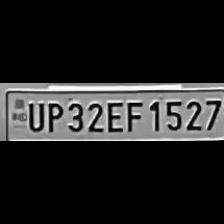1: (144, 98, 162, 132)
2: (84, 98, 104, 132), (184, 97, 202, 130)
3: (64, 98, 82, 132)
5: (162, 96, 182, 132)
7: (201, 97, 221, 131)
E: (104, 99, 122, 133)
F: (124, 97, 142, 132)
P: (45, 99, 63, 133)
U: (24, 100, 43, 132)
